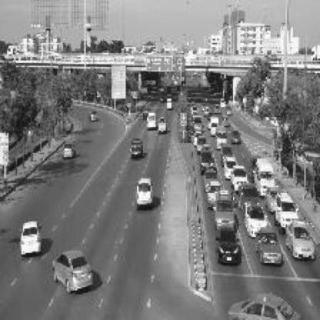other: (226, 293, 302, 317)
